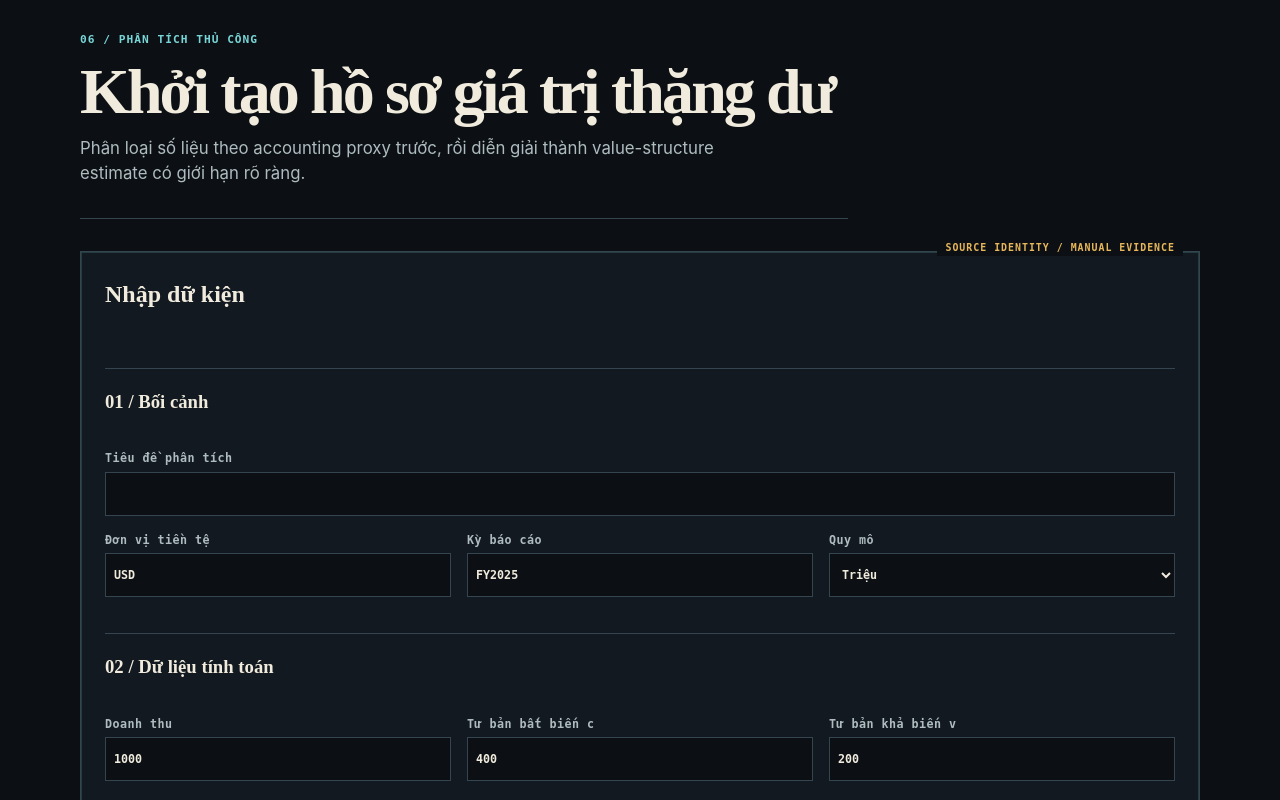
Test: ScannerPage › exposes a recoverable server error
Type "Cloud Platform 2025" into the field labelled "Tiêu đề phân tích".
click(640, 494); type("Cloud Platform 2025")  # box top-left (105, 472), bottom-right (1175, 516)
(page scrolled)
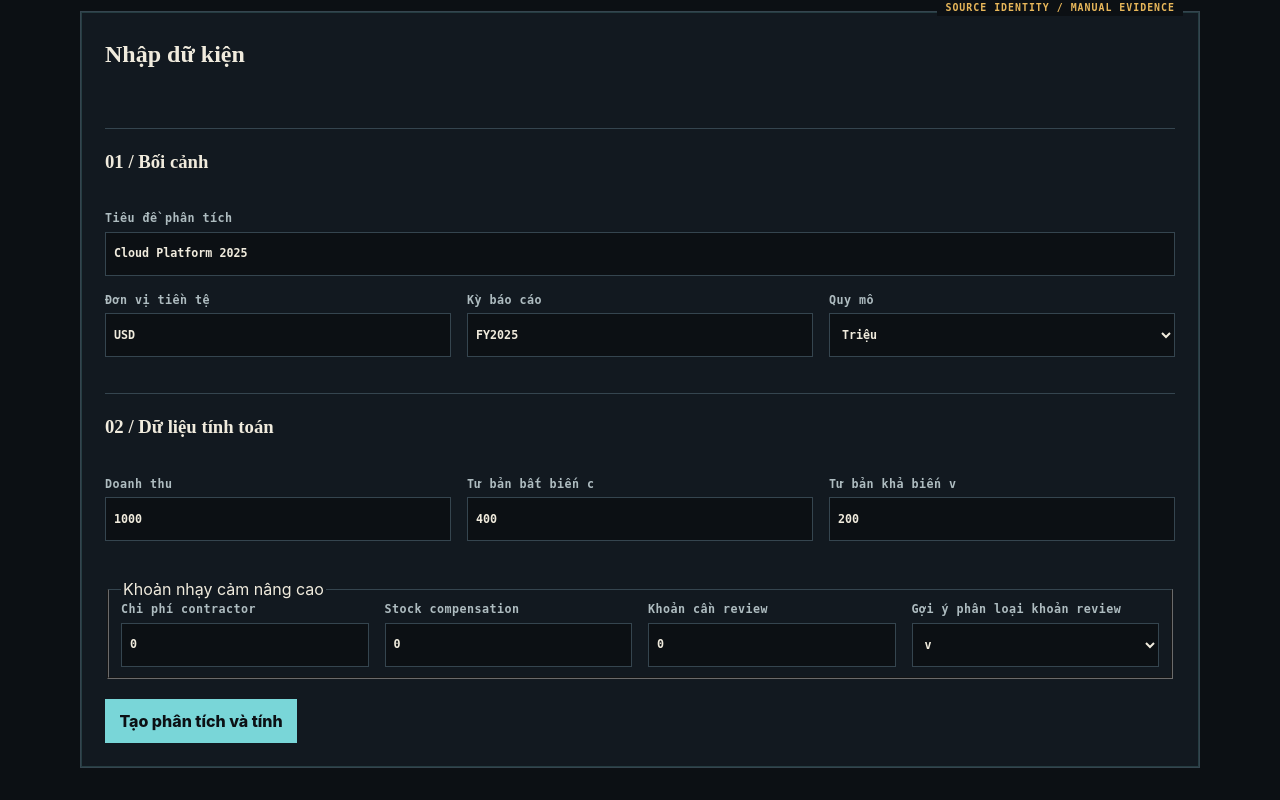
Click the button "Tạo phân tích và tính".
click(201, 721)  # box top-left (105, 699), bottom-right (297, 743)
(page scrolled)
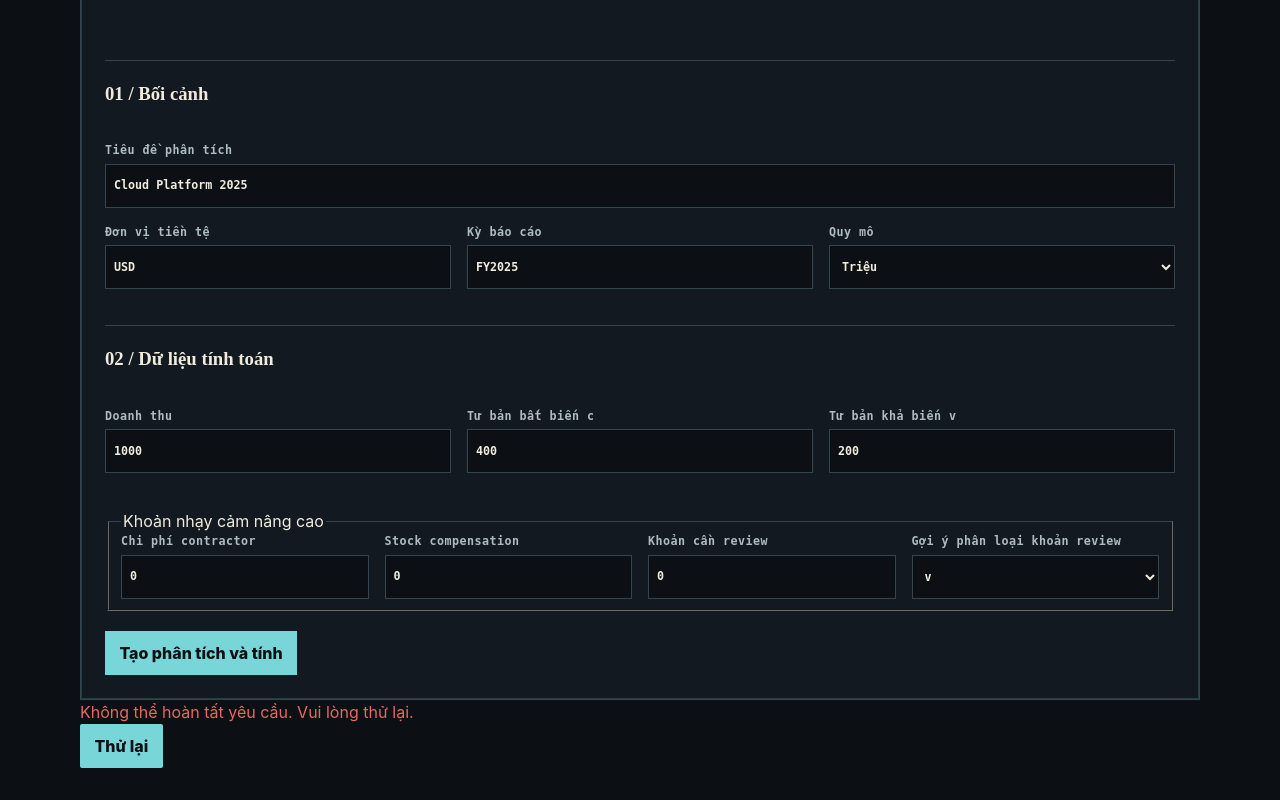
Expected: the text "Không thể hoàn tất yêu cầu. Vui lòng thử lại." is shown, top-left (80, 702), bottom-right (414, 722)
Expected: the button "Thử lại" is shown, top-left (80, 724), bottom-right (163, 768)
